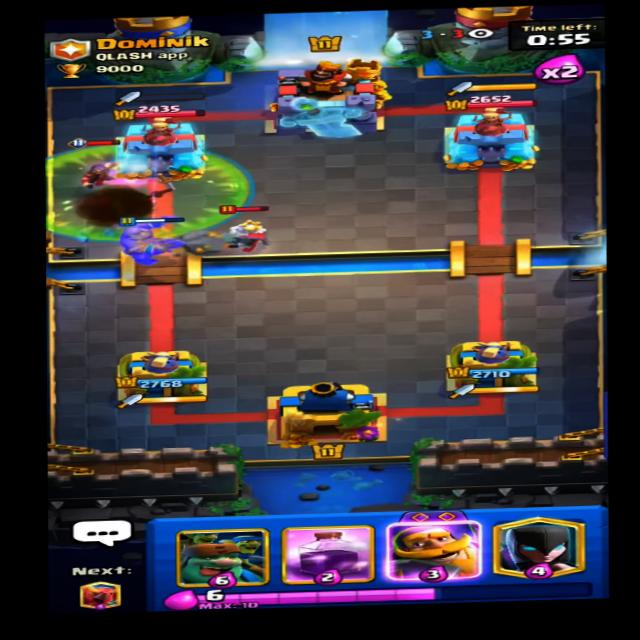evo-wizard: (67, 138, 125, 196)
royal-ghost: (205, 203, 276, 252)
